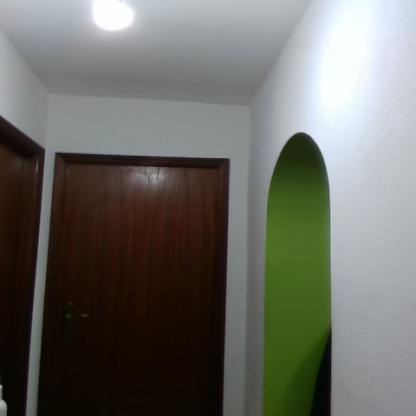door: (62, 166, 219, 415), (0, 123, 40, 415)
lever: (66, 313, 94, 325)
